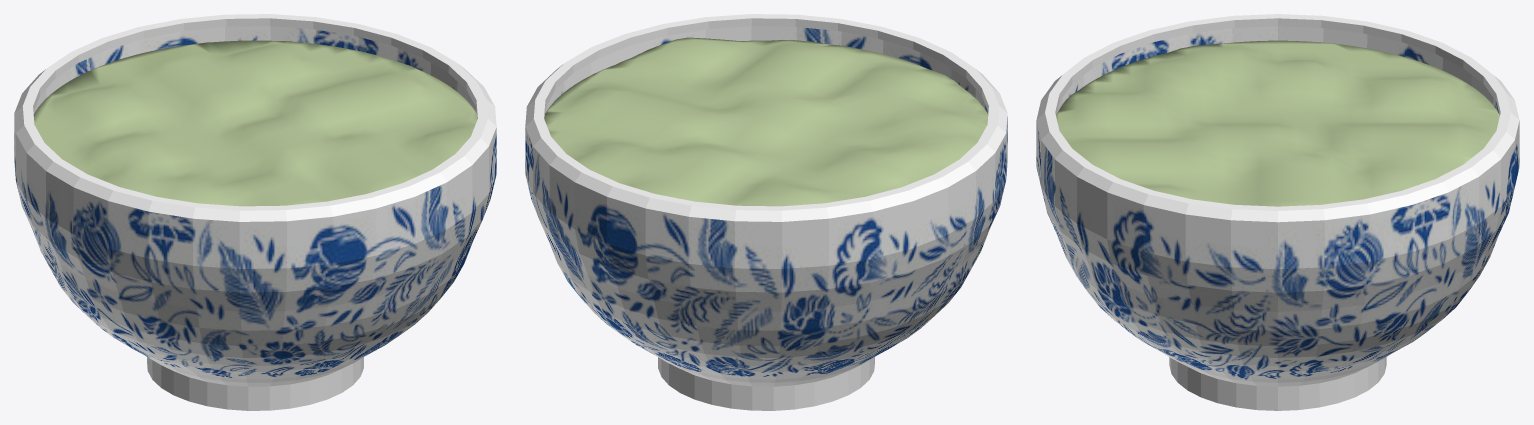
Rendered from Schaaltje-bloem.obj.
The picture shows the model from 3 angles, left to right: view 1: azimuth 30°, elevation 25°; view 2: azimuth 150°, elevation 25°; view 3: azimuth 270°, elevation 25°; orthographic projection.
Parts seen in each view (by area): view 1: Cylinder_Material.001, vulling_Material.002; view 2: Cylinder_Material.001, vulling_Material.002; view 3: Cylinder_Material.001, vulling_Material.002.
Part boxes in pixels (x1,y1,x2,y2): Cylinder_Material.001: (14,14,496,410); vulling_Material.002: (33,40,477,206); Cylinder_Material.001: (525,14,1007,410); vulling_Material.002: (544,37,988,206); Cylinder_Material.001: (1036,14,1519,410); vulling_Material.002: (1056,40,1499,206).
Bounding box in the file's own units: 21.6 × 12.46 × 21.6.
